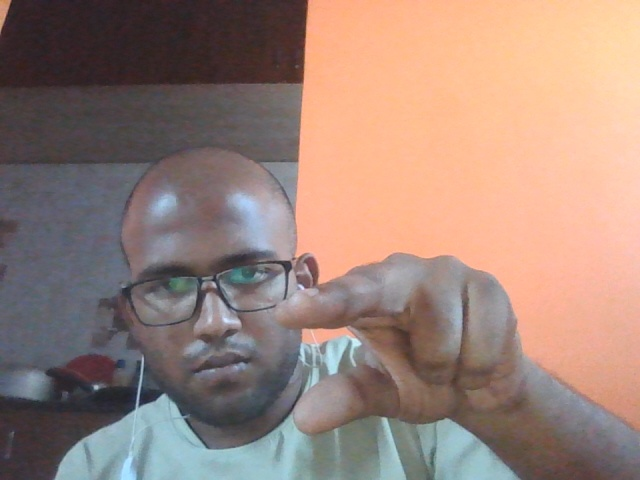no: (246, 243, 592, 454)
